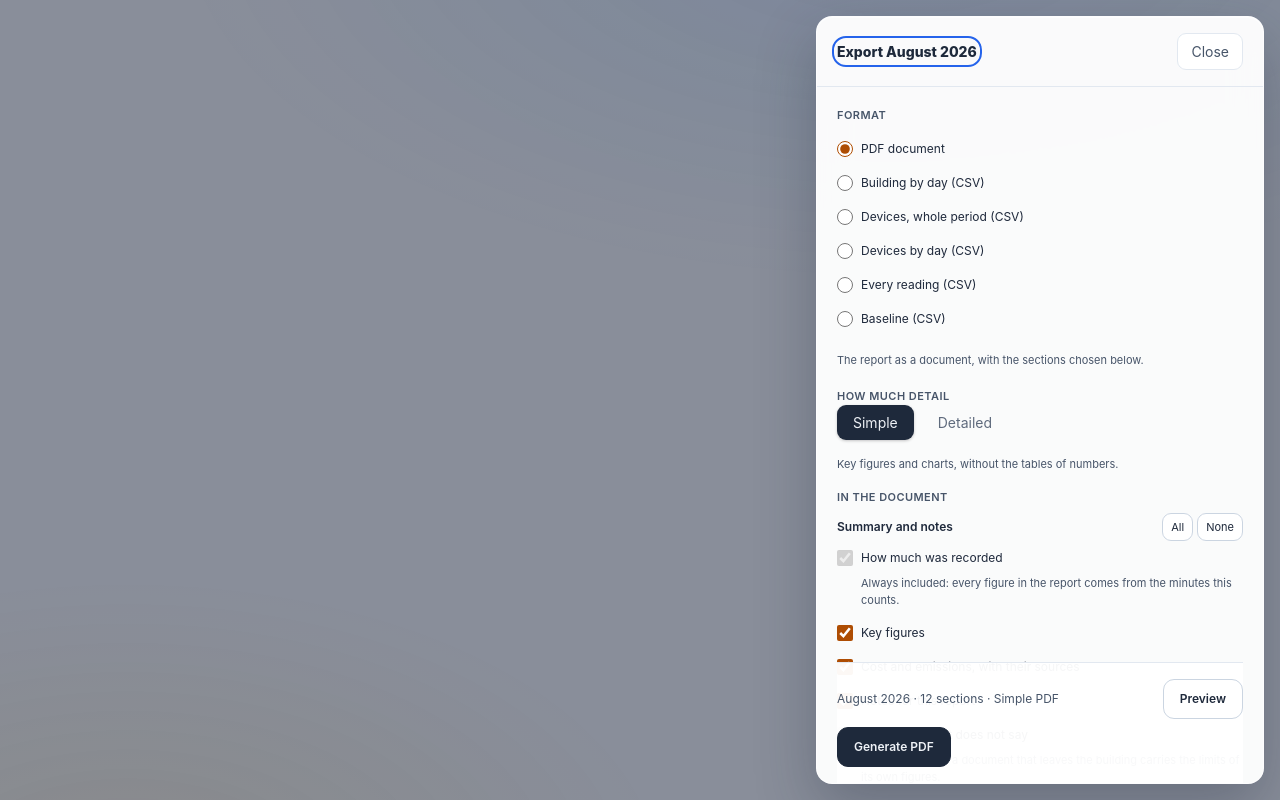
Test: ExportDrawer › closes the preview tab when the preview fails, and says why
What coordinates should you click on to do the following:
click the button "Preview"
I would click on:
 (1203, 699)
Its box is [1163,679,1243,719].
(page scrolled)
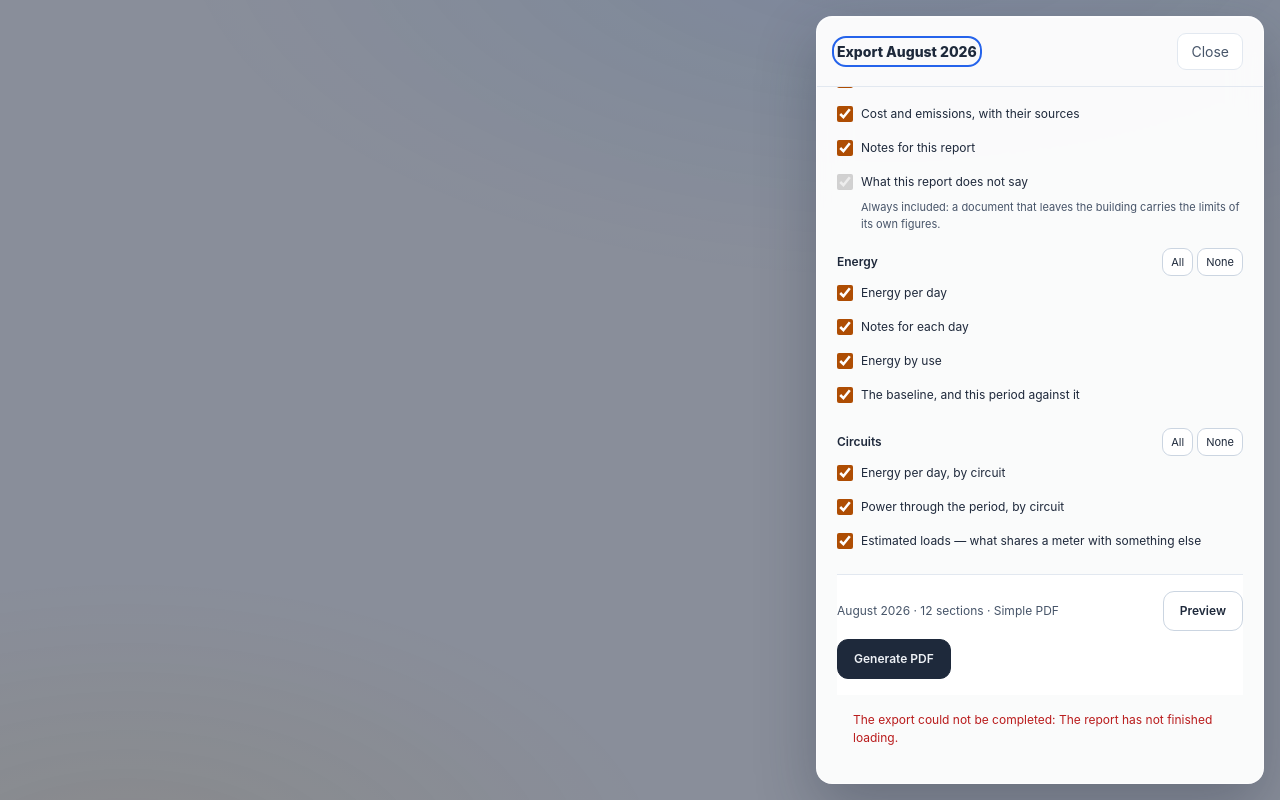
Expected: the message shows "not finished loading", [853,712,1212,745]
